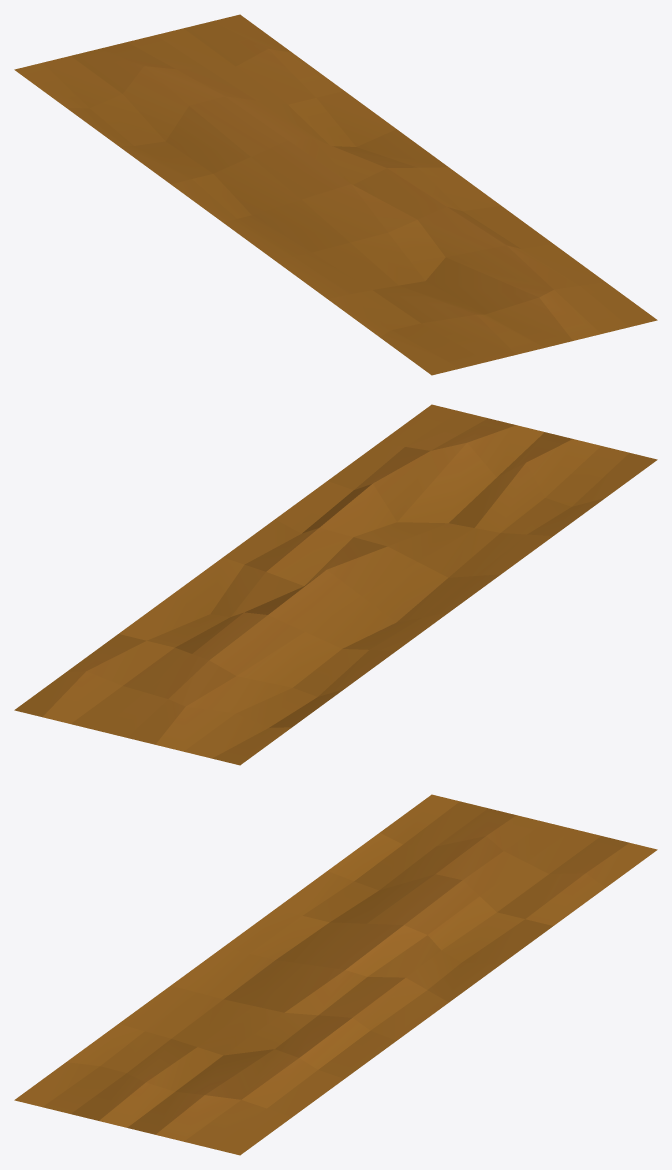
The model's file is cGround_B_Under_1_.fbx.
3 views of the same model, one above another, from view 1: azimuth 30°, elevation 25°; view 2: azimuth 150°, elevation 25°; view 3: azimuth 330°, elevation 25° (orthographic).
Visible parts, largest first — view 1: cGround_B_Under_1; view 2: cGround_B_Under_1; view 3: cGround_B_Under_1.
Part boxes in pixels (x1,y1,x2,y2): cGround_B_Under_1: (14, 14, 657, 375); cGround_B_Under_1: (14, 404, 657, 765); cGround_B_Under_1: (14, 794, 657, 1155).
Bounding box in the file's own units: 1000 × 94.64 × 3200.
